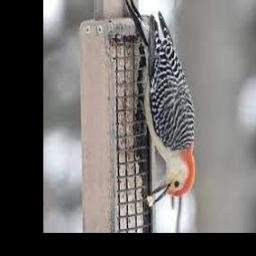Woodpecker: (123, 0, 195, 206)
